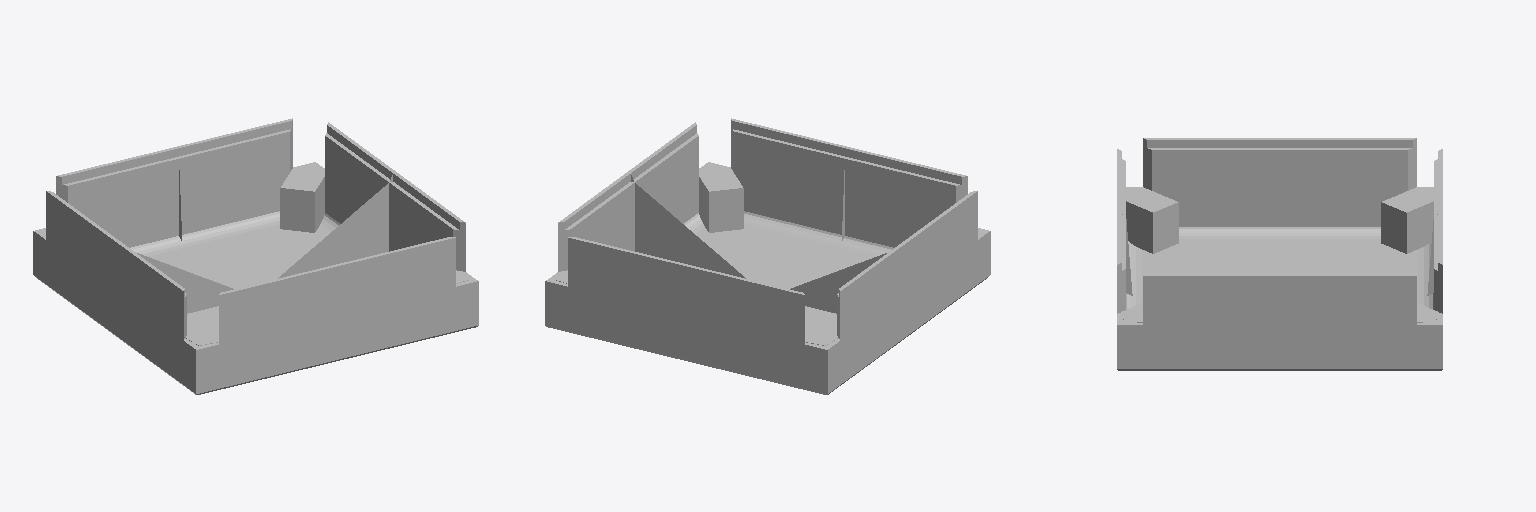
Rendered from DroneBodyobj.obj.
3 views of the same model, side by side, from view 1: azimuth 30°, elevation 25°; view 2: azimuth 150°, elevation 25°; view 3: azimuth 270°, elevation 25° (orthographic).
Visible parts, largest first — view 1: Cube.007; view 2: Cube.007; view 3: Cube.007.
Boxes of the visible parts, x1=… form: Cube.007: x1=33, y1=118, x2=478, y2=394; Cube.007: x1=545, y1=118, x2=990, y2=394; Cube.007: x1=1117, y1=138, x2=1442, y2=370.
Size of the model in its own units: 36 by 12 by 36.